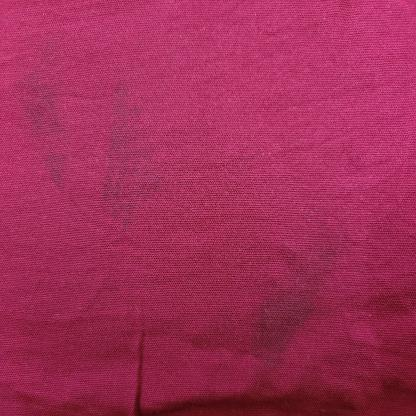spot: (106, 93, 154, 216), (258, 286, 292, 356), (19, 78, 63, 128), (288, 276, 310, 334), (303, 251, 339, 278), (43, 153, 66, 188), (113, 82, 126, 93)
